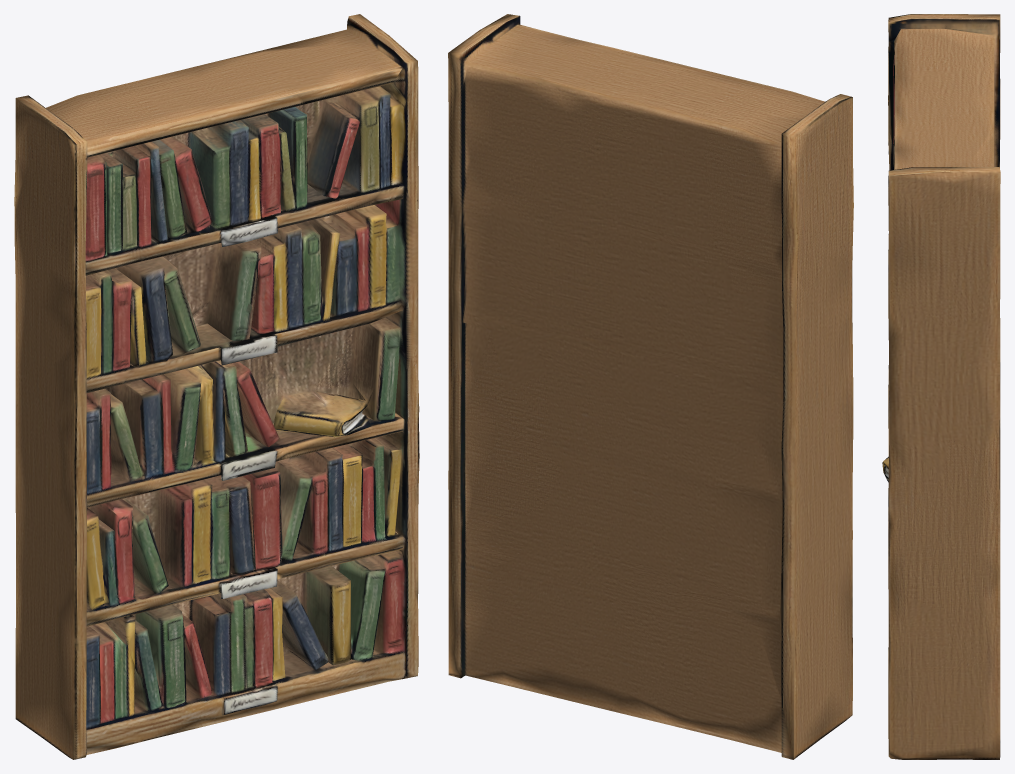
The model's file is Bookcase.fbx.
3 renders of one model, left to right at view 1: azimuth 30°, elevation 25°; view 2: azimuth 150°, elevation 25°; view 3: azimuth 270°, elevation 25°, orthographic. The views are drawn at different scales.
Parts seen in each view (by area): view 1: Bookcase_LOD0; view 2: Bookcase_LOD0; view 3: Bookcase_LOD0.
Part boxes in pixels (box(x1,y1,x2,y2)): Bookcase_LOD0: box(14, 14, 419, 759); Bookcase_LOD0: box(448, 14, 853, 759); Bookcase_LOD0: box(882, 14, 1000, 759).
Size of what is drawn, in the model's own units: 0.5857 by 1 by 0.1822.
